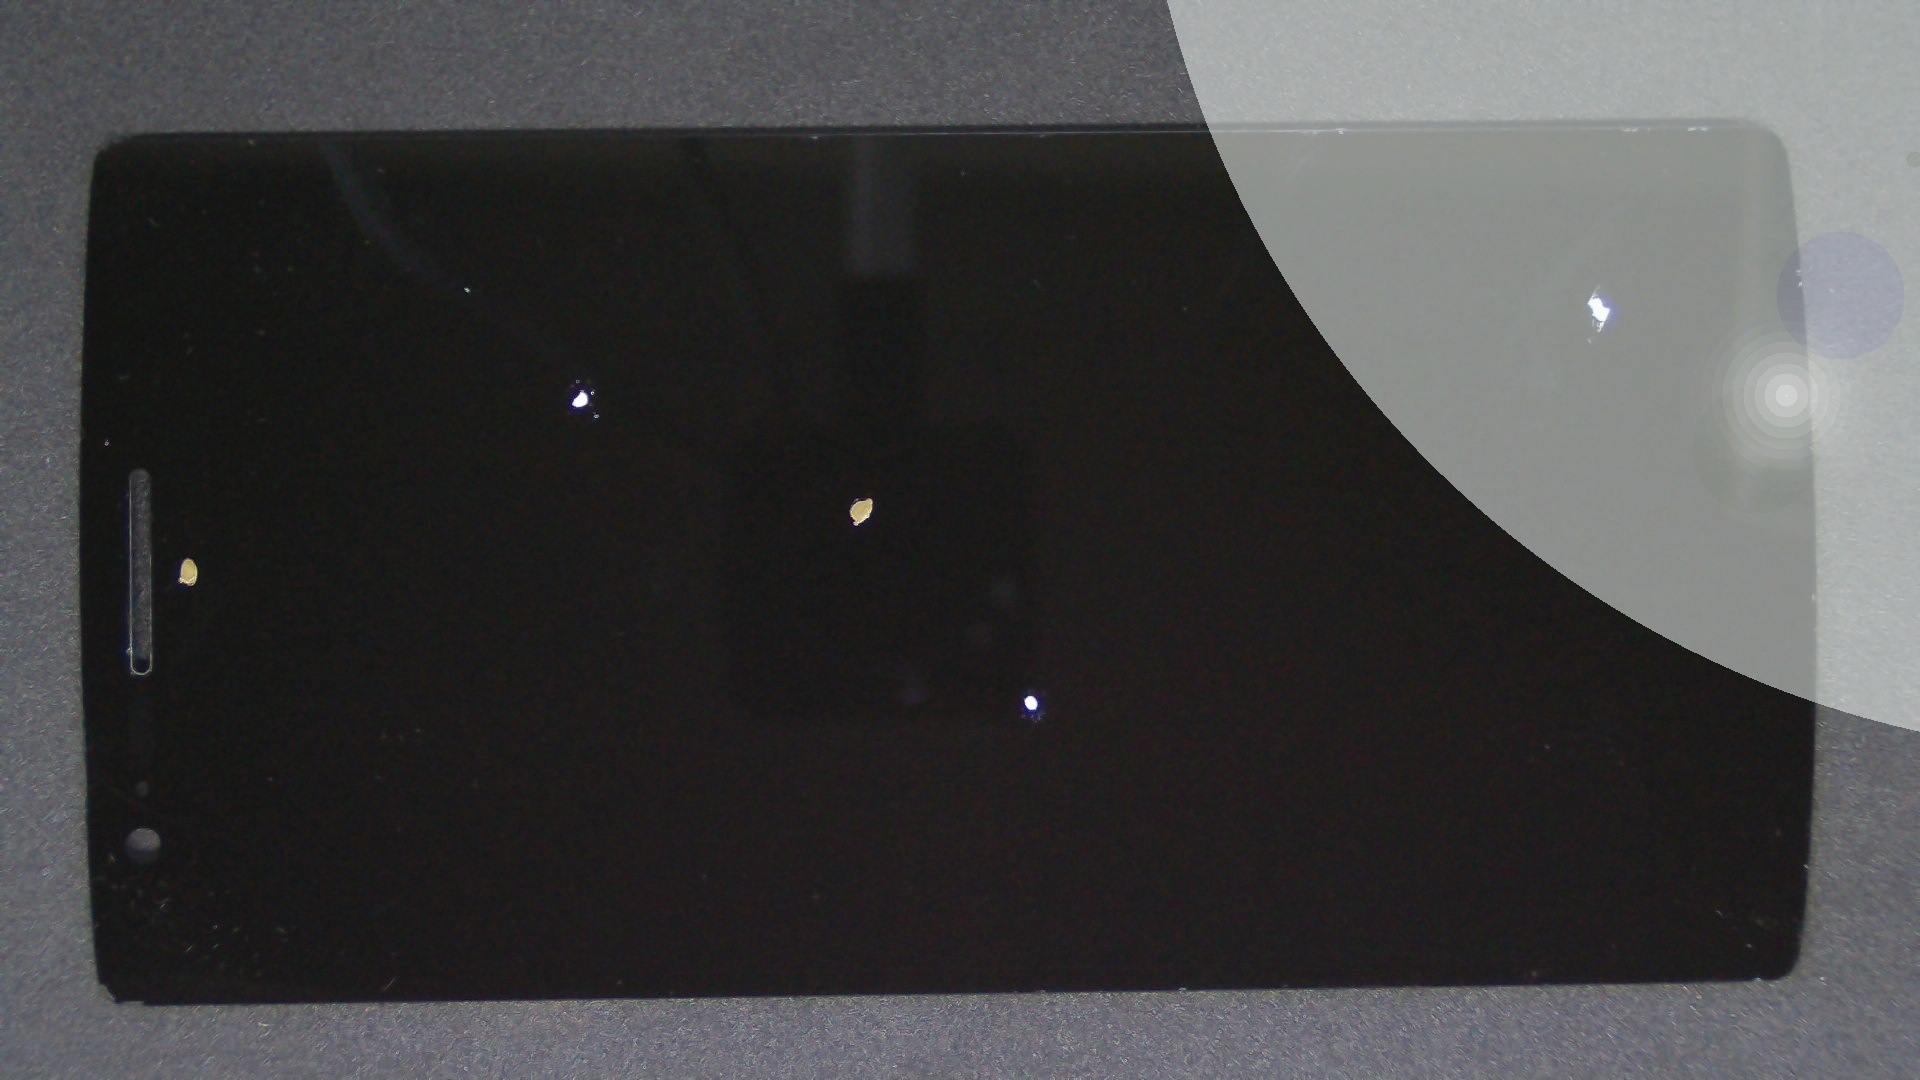oil: (517, 347, 1551, 1042), (435, 247, 1304, 742), (803, 141, 1920, 426), (289, 193, 865, 579), (94, 277, 278, 835)
